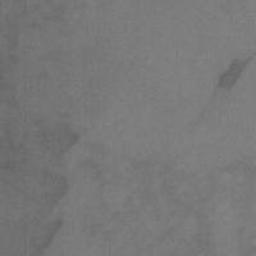Water spot: (0, 0, 84, 256), (188, 50, 256, 138)
